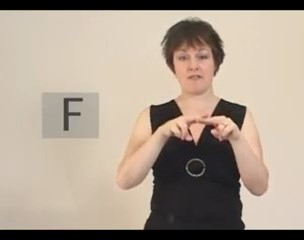F: (161, 111, 235, 146)
